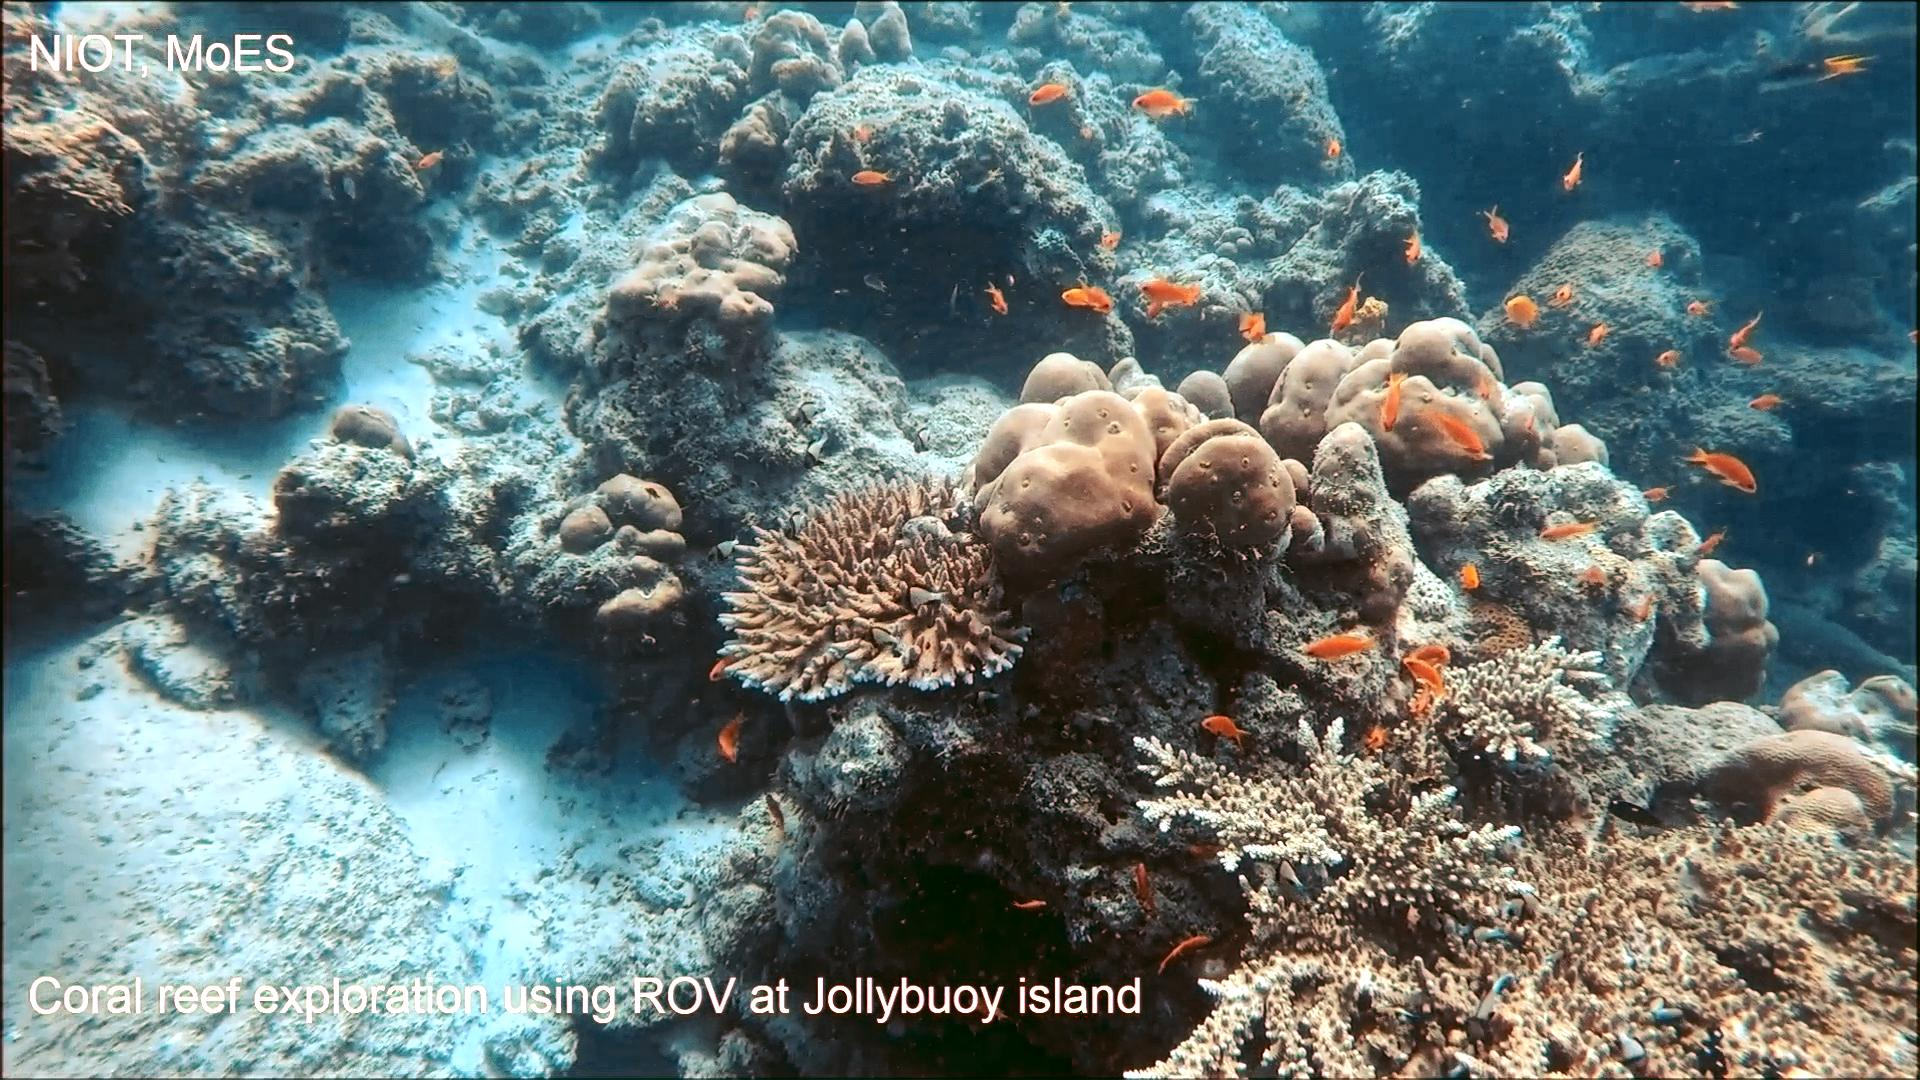Porites-Porites pukoensis: (952, 347, 1298, 596), (1211, 313, 1613, 491)
